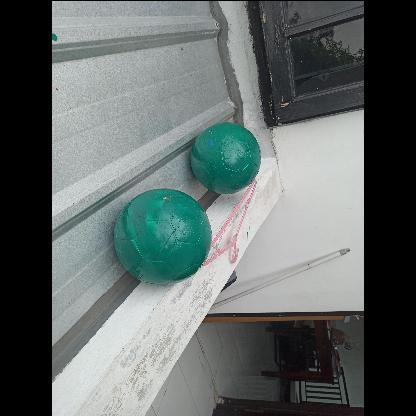green_ball: (113, 186, 211, 284), (190, 120, 262, 192)
